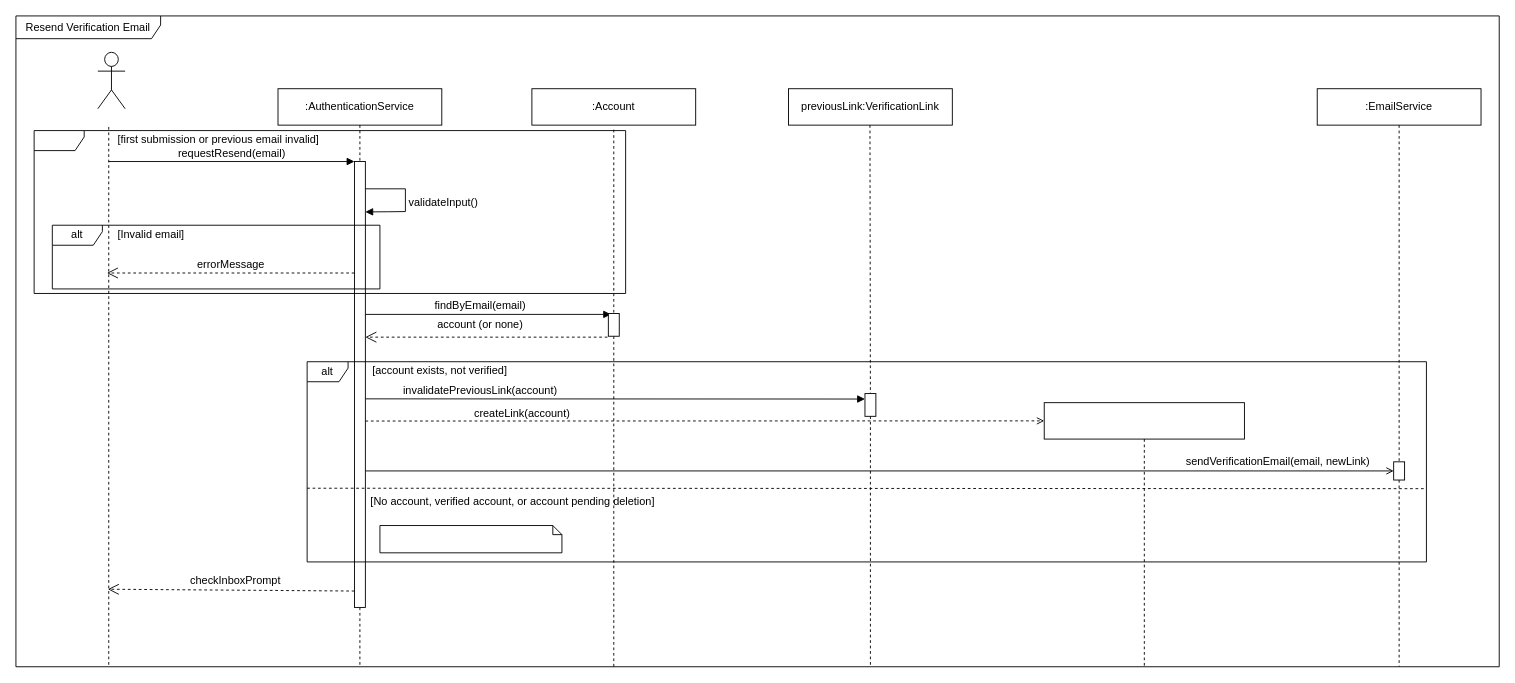
The diagram is 1515 pixels wide and 683 high, and some of its shapes have lost their labels. Each missing label, with the box of its shape:
loop: (33, 130, 626, 293)
newLink:VerificationLink: (1043, 402, 1244, 439)
no link sent, show the same inbox prompt: (379, 525, 562, 553)
User: (97, 51, 125, 109)
